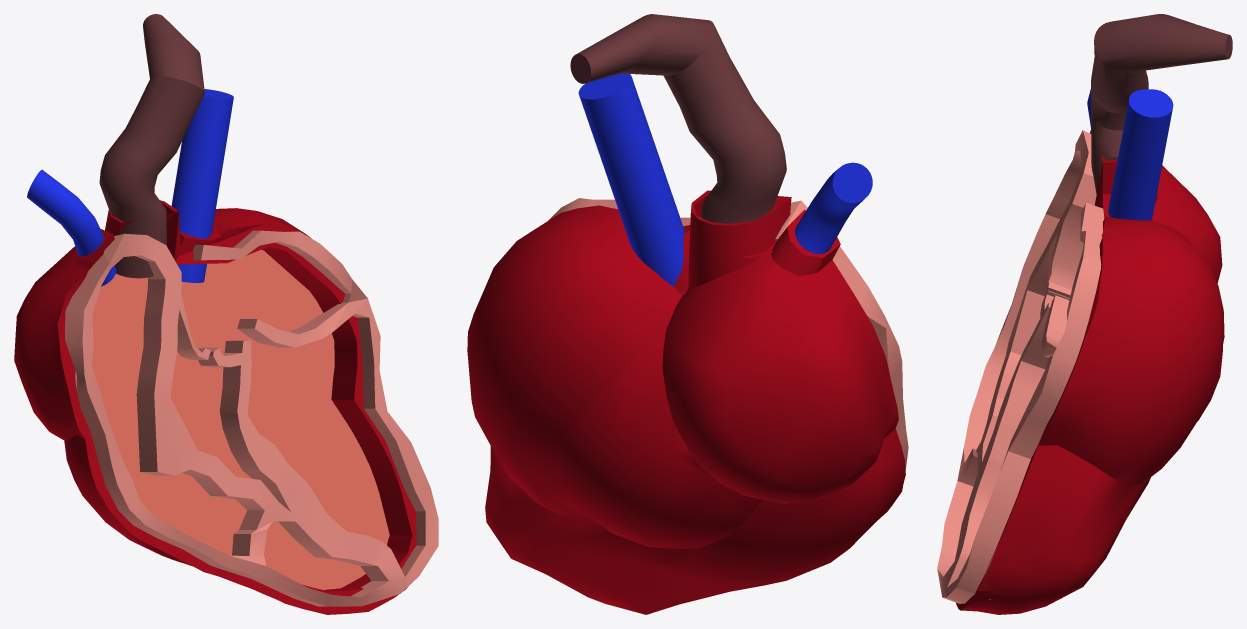
File: HalfHeart.glb
3 renders of one model, left to right at view 1: azimuth 30°, elevation 25°; view 2: azimuth 150°, elevation 25°; view 3: azimuth 270°, elevation 25°, orthographic. The views are drawn at different scales.
Parts seen in each view (by area): view 1: Half Heart; view 2: Half Heart; view 3: Half Heart.
Boxes of the visible parts, <box> form: Half Heart: <box>14,14,438,614</box>; Half Heart: <box>467,14,908,614</box>; Half Heart: <box>937,14,1232,614</box>.
Bounding box in the file's own units: 3.78 × 5.71 × 2.82.
